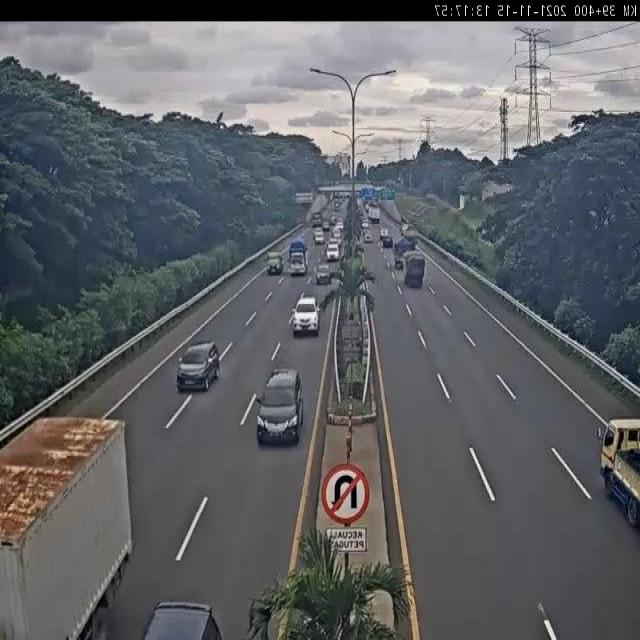Car: (254, 369, 304, 446), (177, 339, 220, 392), (292, 292, 322, 338), (316, 264, 332, 285), (326, 243, 340, 262), (383, 236, 393, 249), (314, 234, 324, 244), (360, 219, 369, 229), (322, 222, 331, 230)
Truck: (0, 416, 135, 640), (594, 417, 640, 528), (401, 250, 427, 288), (392, 236, 418, 268), (287, 236, 307, 276), (264, 248, 283, 276), (398, 221, 419, 239), (367, 202, 382, 225), (312, 212, 323, 226)
